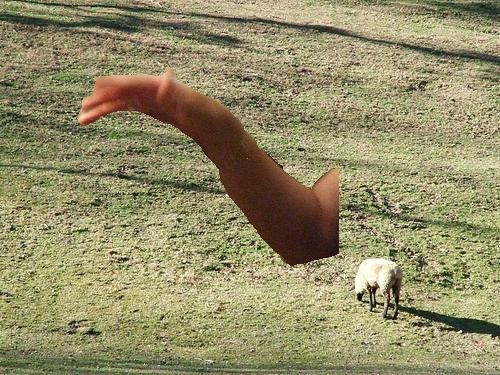tampered: (78, 67, 339, 266)
